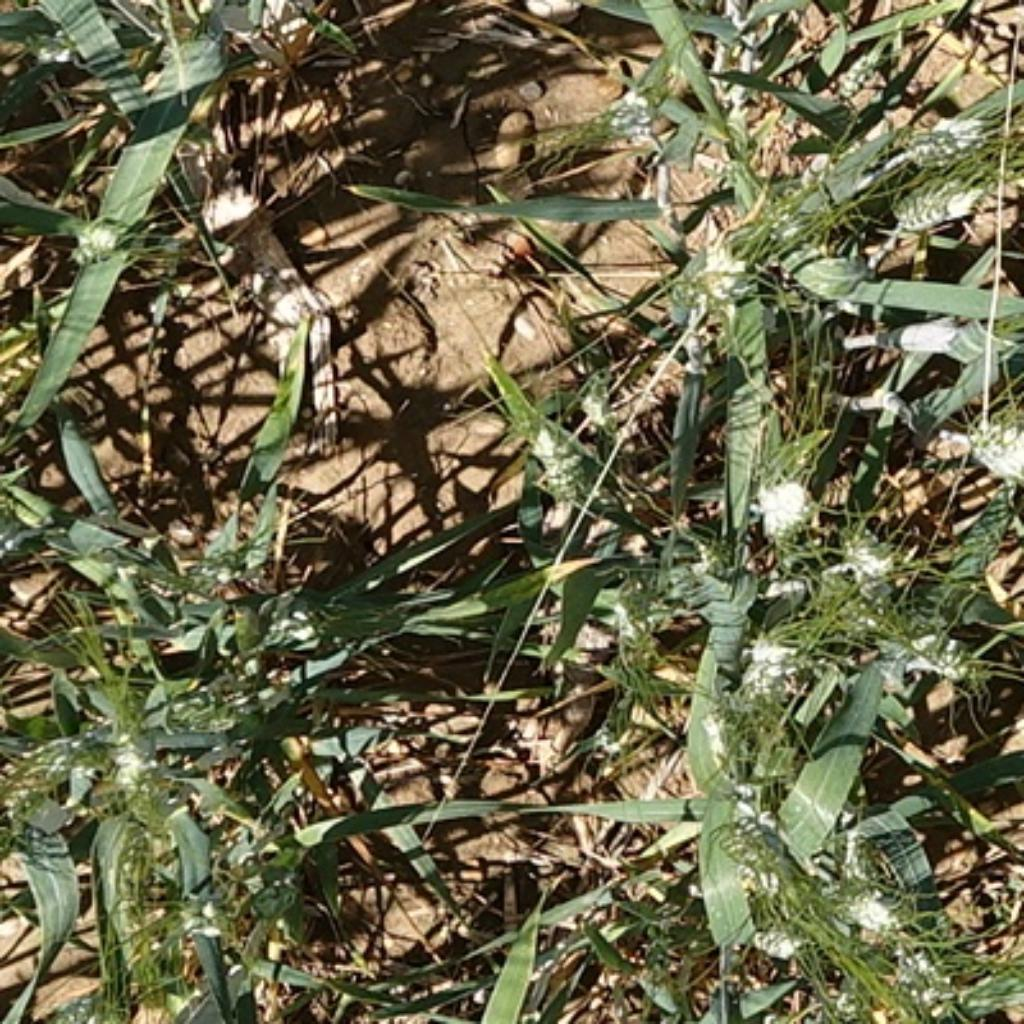0-0: (247, 594, 370, 686), (829, 847, 931, 957), (673, 514, 768, 627), (721, 624, 819, 732), (94, 737, 186, 844), (660, 220, 755, 322), (702, 794, 799, 893), (514, 399, 604, 496), (588, 568, 663, 675), (826, 512, 908, 606), (885, 163, 988, 232), (896, 99, 998, 168), (158, 890, 261, 954), (954, 391, 1024, 481), (744, 906, 819, 985), (883, 944, 962, 1018), (601, 69, 668, 156), (747, 460, 819, 537), (826, 33, 898, 107), (64, 209, 140, 266)
